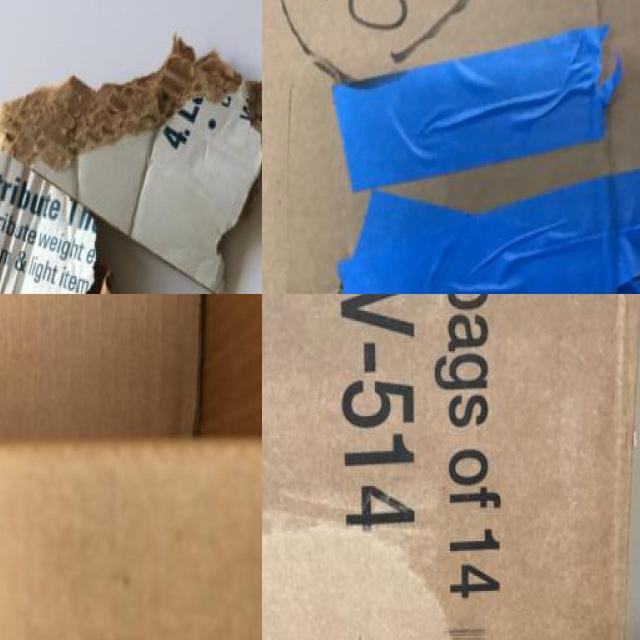class_name: (262, 294, 634, 640), (262, 0, 640, 294), (0, 294, 262, 640), (0, 33, 262, 294)
